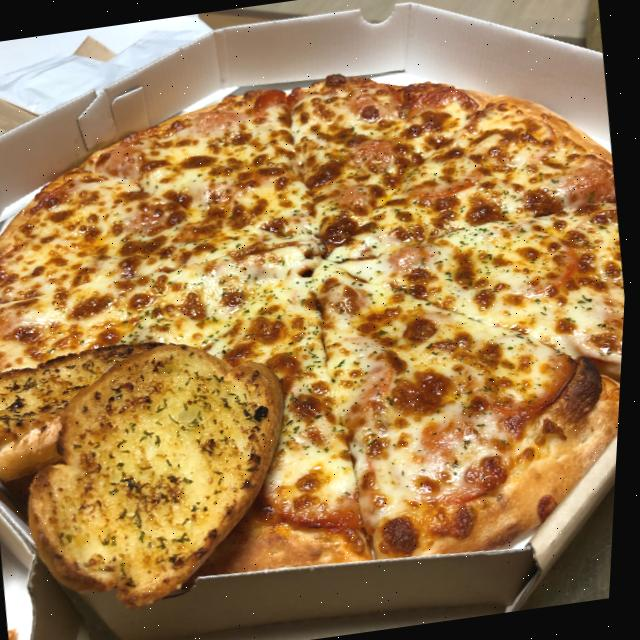pizza: (0, 37, 638, 615)
